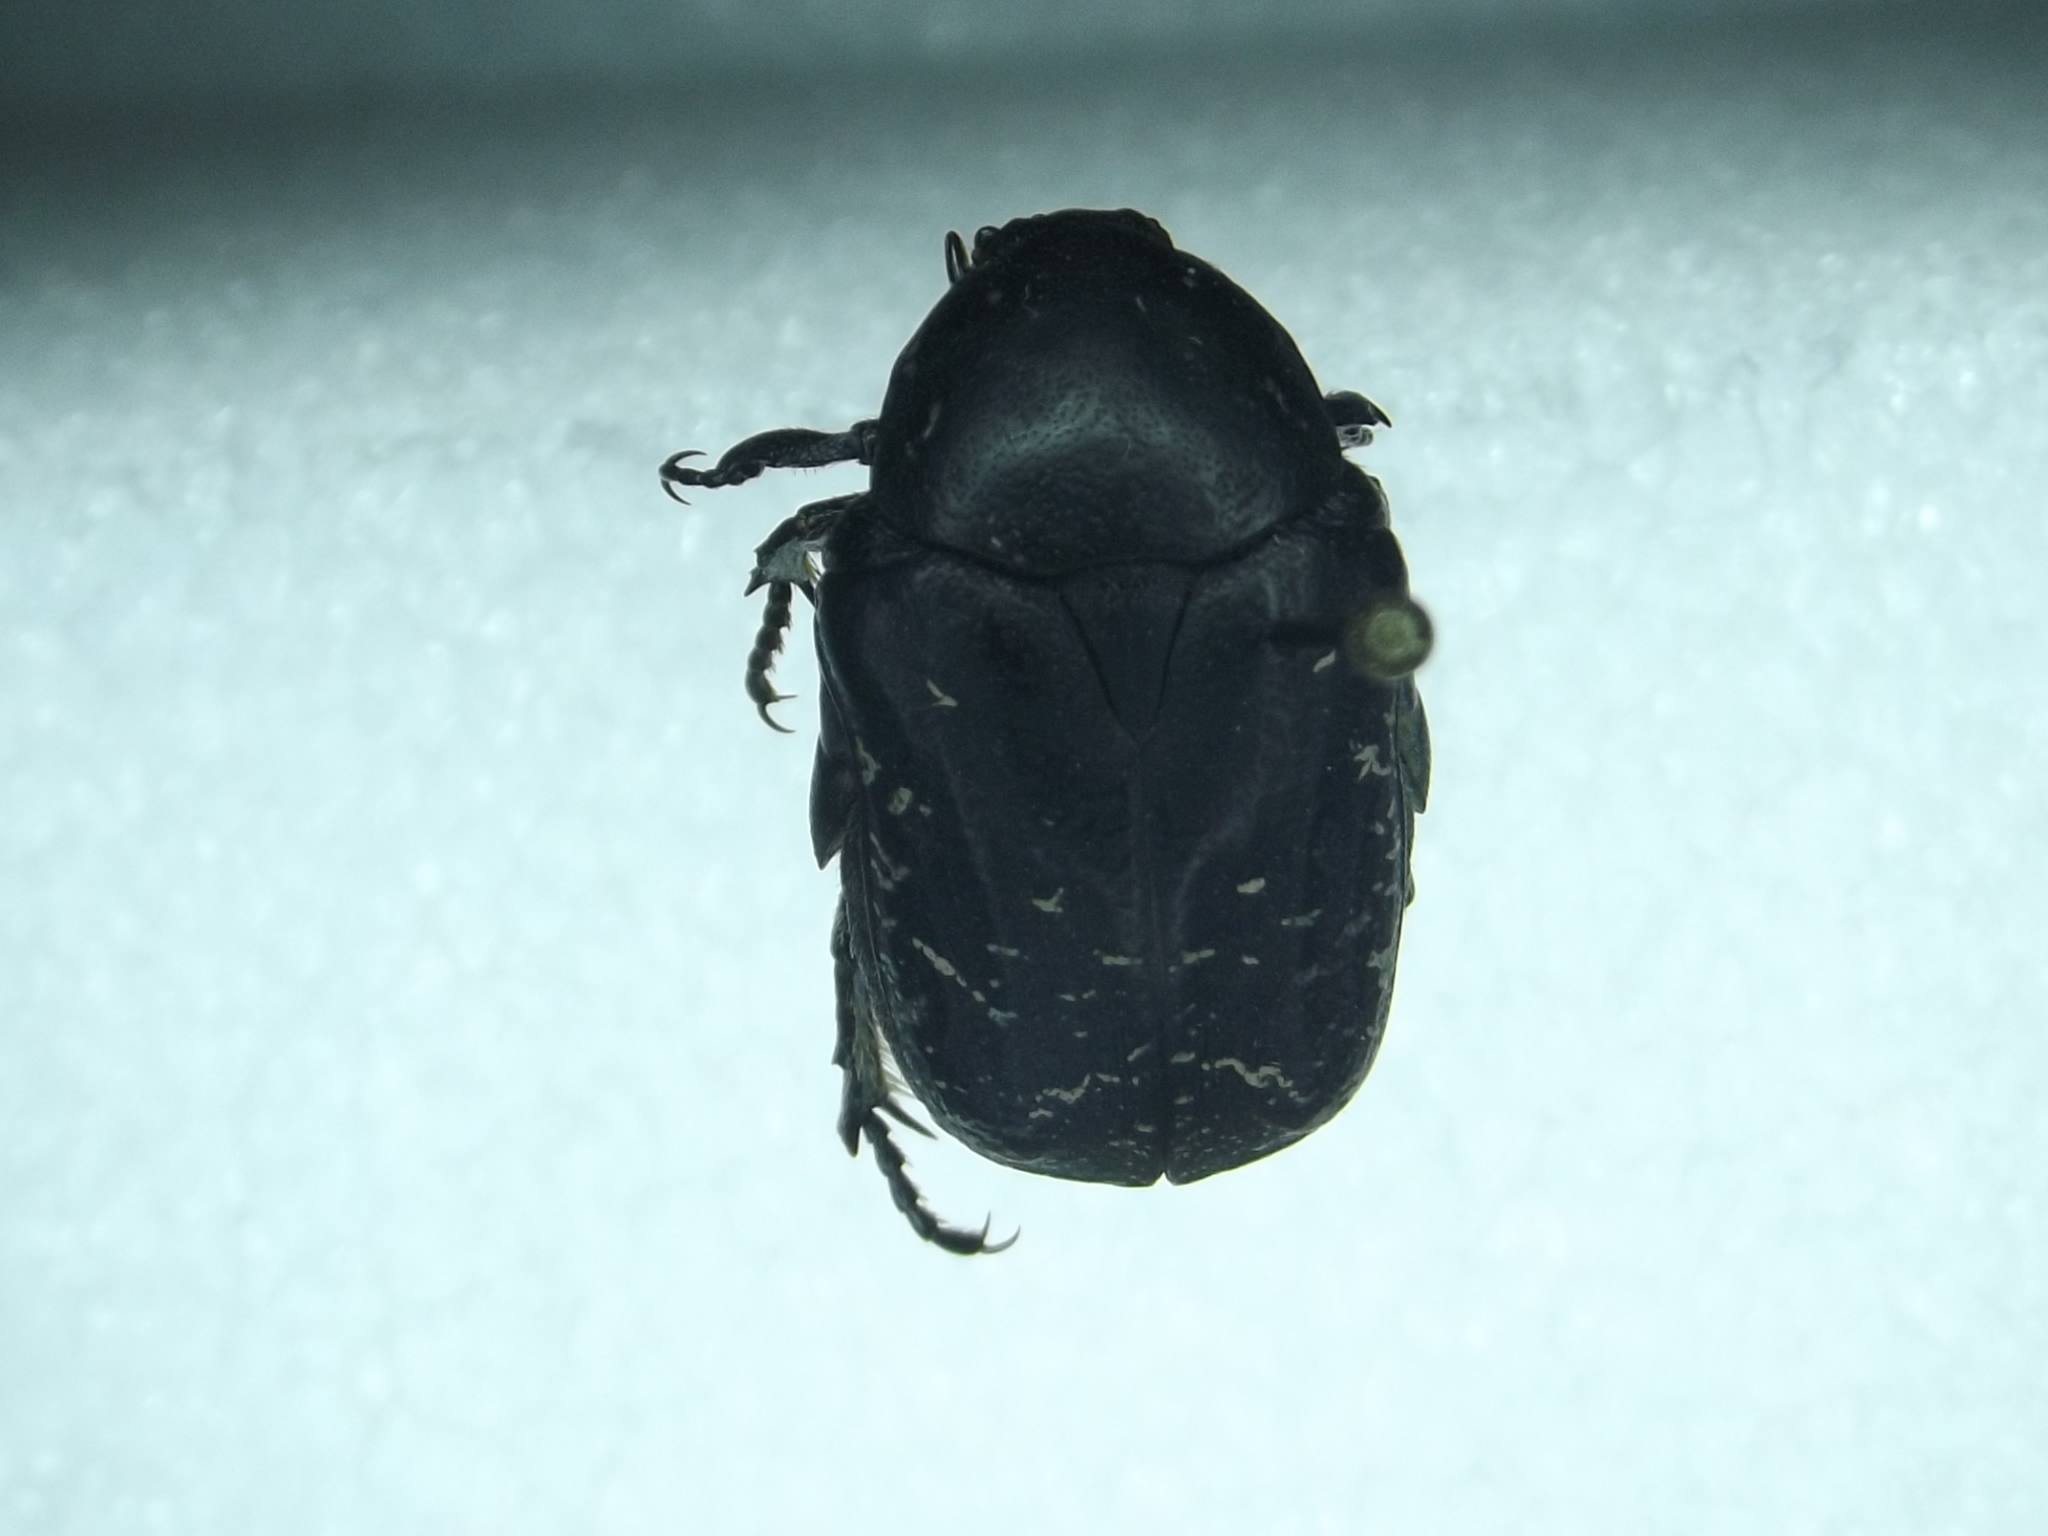Protaetia_oblonga: (653, 189, 1490, 1312)
